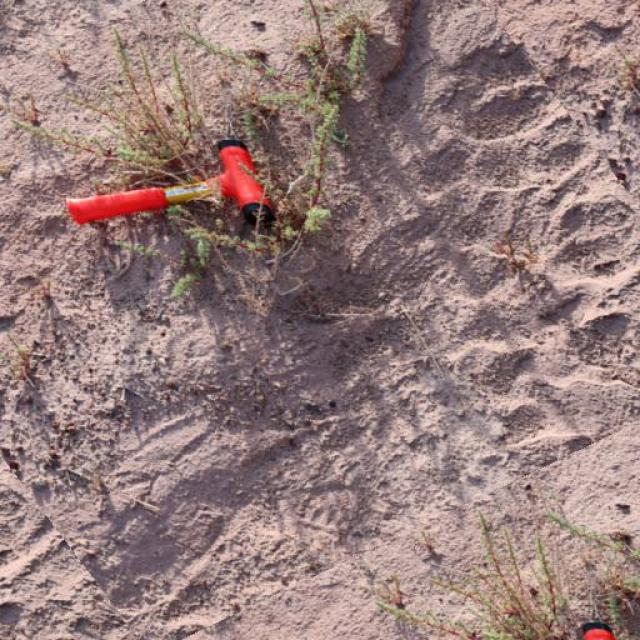mallet: (65, 136, 279, 229)
